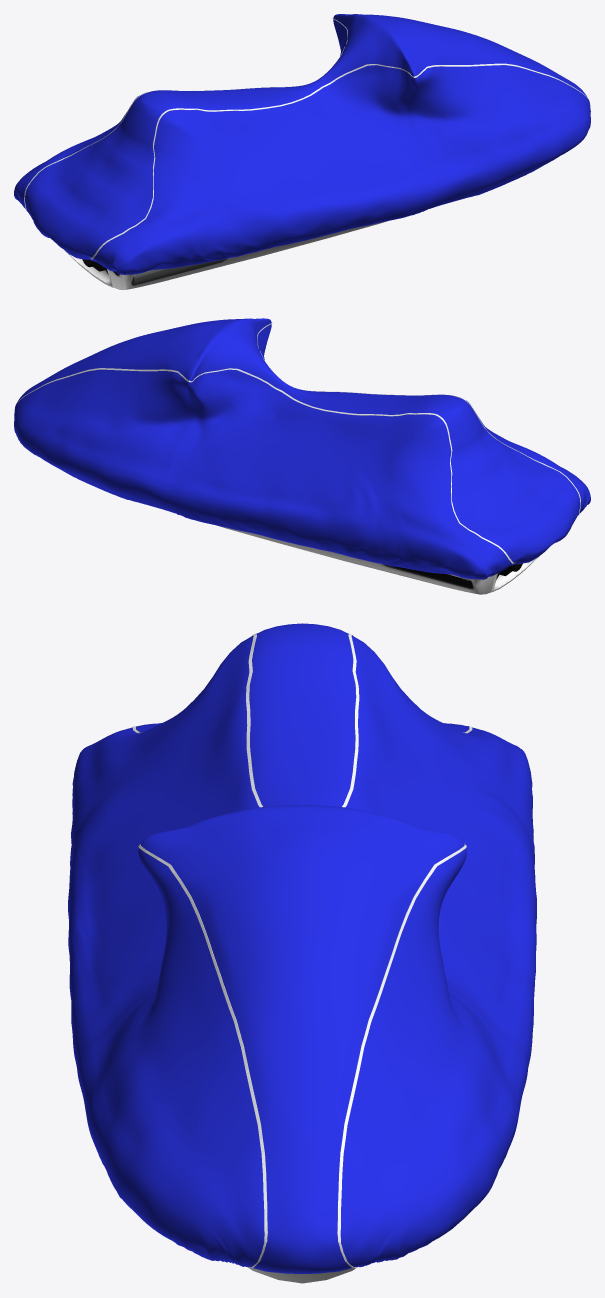
The model's file is jetski.glb.
The picture shows the model from 3 angles, top to bottom: view 1: azimuth 30°, elevation 25°; view 2: azimuth 150°, elevation 25°; view 3: azimuth 270°, elevation 25°; orthographic projection. The views are drawn at different scales.
Visible parts, largest first — view 1: CAPA, RODA, LINHA.002; view 2: CAPA, RODA, LINHA.002; view 3: CAPA, LINHA.002.
Part boxes in pixels (bbox=[...]): CAPA: bbox=[14, 14, 590, 274]; RODA: bbox=[62, 221, 387, 289]; LINHA.002: bbox=[24, 17, 590, 259]; CAPA: bbox=[14, 318, 590, 579]; RODA: bbox=[217, 525, 538, 594]; LINHA.002: bbox=[14, 322, 580, 563]; CAPA: bbox=[68, 623, 536, 1273]; LINHA.002: bbox=[132, 633, 472, 1268].
Bounding box in the file's own units: 22.78 × 7.55 × 8.65.
7 materials, 3 textured.
